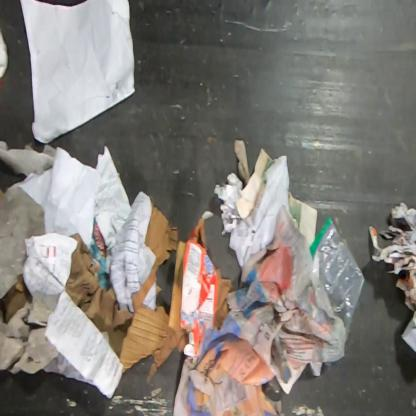cardboard: (119, 259, 188, 385), (65, 233, 133, 357), (168, 217, 219, 362), (143, 196, 180, 265), (214, 268, 234, 330)
soft_plastic: (309, 215, 366, 344), (0, 186, 45, 299), (324, 362, 334, 368)
